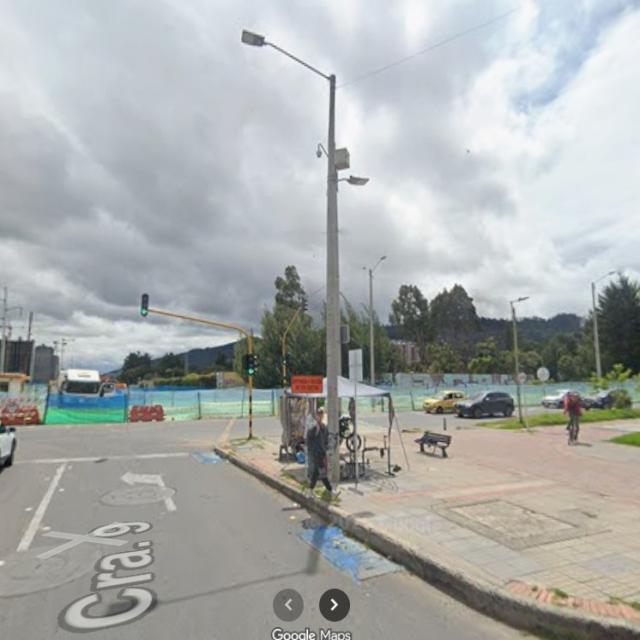Poste: (243, 31, 368, 485), (592, 270, 616, 377), (368, 255, 386, 384), (510, 296, 528, 422), (0, 286, 21, 371)
